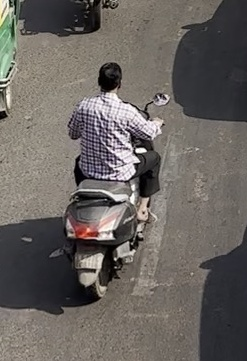BikeWithRider: (51, 56, 173, 302)
NoHelmet: (90, 57, 128, 101)
